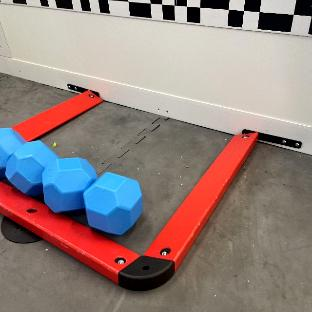Parking-R: (0, 132, 257, 290), (12, 90, 101, 140)
V5_BLUE: (84, 172, 142, 234), (4, 140, 57, 196), (43, 158, 96, 212), (0, 127, 25, 177)
